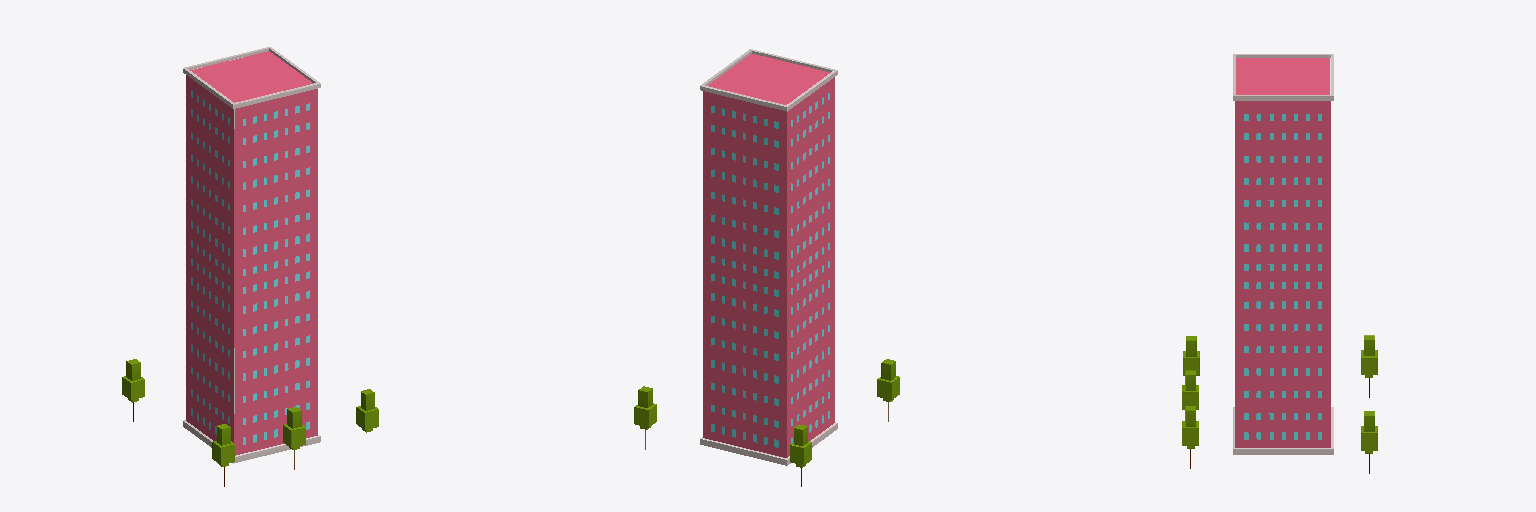
3 renders of one model, left to right at view 1: azimuth 30°, elevation 25°; view 2: azimuth 150°, elevation 25°; view 3: azimuth 270°, elevation 25°, orthographic.
Parts seen in each view (by area): view 1: living_red_3lvl_Mesh.125, Tree_2_3_61.059_Mesh.325, Tree_2_3_61.062_Mesh.328, Tree_2_3_61.058_Mesh.324, Tree_2_3_61.060_Mesh.326; view 2: living_red_3lvl_Mesh.125, Tree_2_3_61.061_Mesh.327, Tree_2_3_61.058_Mesh.324, Tree_2_3_61.062_Mesh.328; view 3: living_red_3lvl_Mesh.125, Tree_2_3_61.060_Mesh.326, Tree_2_3_61.061_Mesh.327, Tree_2_3_61.062_Mesh.328, Tree_2_3_61.059_Mesh.325.
Part boxes in pixels (bbox=[...]): living_red_3lvl_Mesh.125: bbox=[183, 47, 320, 463]; Tree_2_3_61.059_Mesh.325: bbox=[283, 407, 305, 469]; Tree_2_3_61.062_Mesh.328: bbox=[122, 359, 144, 421]; Tree_2_3_61.058_Mesh.324: bbox=[212, 424, 234, 486]; Tree_2_3_61.060_Mesh.326: bbox=[356, 389, 378, 432]; living_red_3lvl_Mesh.125: bbox=[700, 49, 837, 465]; Tree_2_3_61.061_Mesh.327: bbox=[634, 386, 656, 449]; Tree_2_3_61.058_Mesh.324: bbox=[877, 359, 899, 421]; Tree_2_3_61.062_Mesh.328: bbox=[790, 424, 811, 486]; living_red_3lvl_Mesh.125: bbox=[1233, 54, 1333, 454]; Tree_2_3_61.060_Mesh.326: bbox=[1182, 406, 1198, 468]; Tree_2_3_61.061_Mesh.327: bbox=[1361, 411, 1377, 473]; Tree_2_3_61.062_Mesh.328: bbox=[1361, 335, 1377, 397]; Tree_2_3_61.059_Mesh.325: bbox=[1182, 370, 1198, 409].
Size of the model in its own units: 1.85 by 3.74 by 1.84.
2 materials, 2 textured.